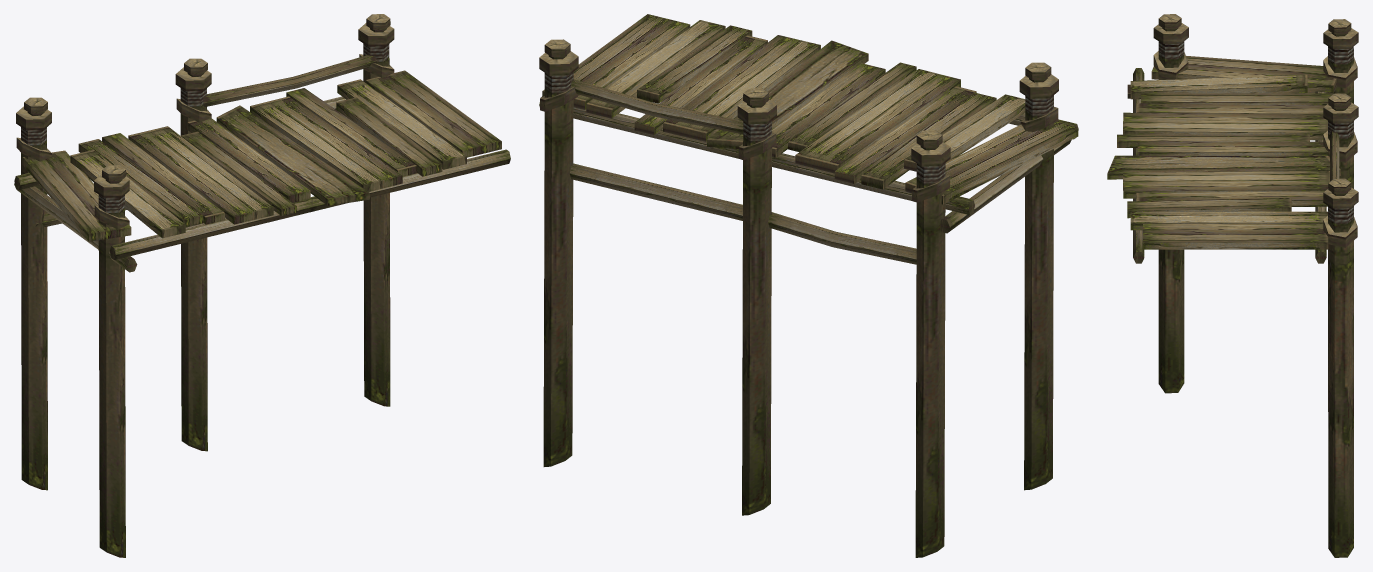
The model's file is xsz_qiao_2.FBX.
3 renders of one model, left to right at view 1: azimuth 30°, elevation 25°; view 2: azimuth 150°, elevation 25°; view 3: azimuth 270°, elevation 25°, orthographic. The views are drawn at different scales.
Parts seen in each view (by area): view 1: xsz_qiao_2; view 2: xsz_qiao_2; view 3: xsz_qiao_2.
Boxes of the visible parts, x1=… form: xsz_qiao_2: x1=14, y1=14, x2=510, y2=557; xsz_qiao_2: x1=539, y1=14, x2=1078, y2=557; xsz_qiao_2: x1=1107, y1=14, x2=1358, y2=557.
Bounding box in the file's own units: 907 × 825 × 506.
